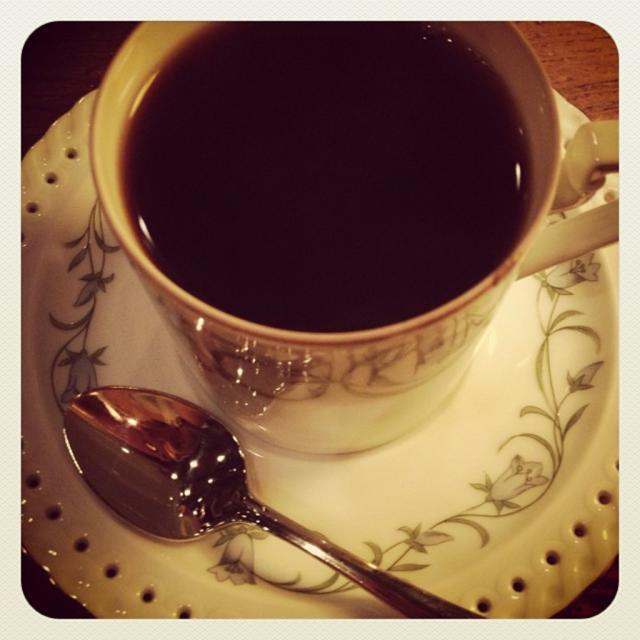ceramic plate: (41, 80, 600, 625)
